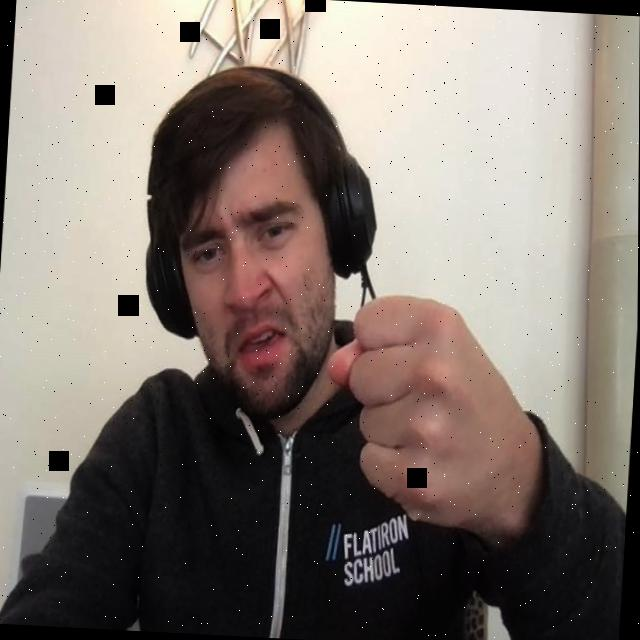Rock: (322, 285, 533, 535)
